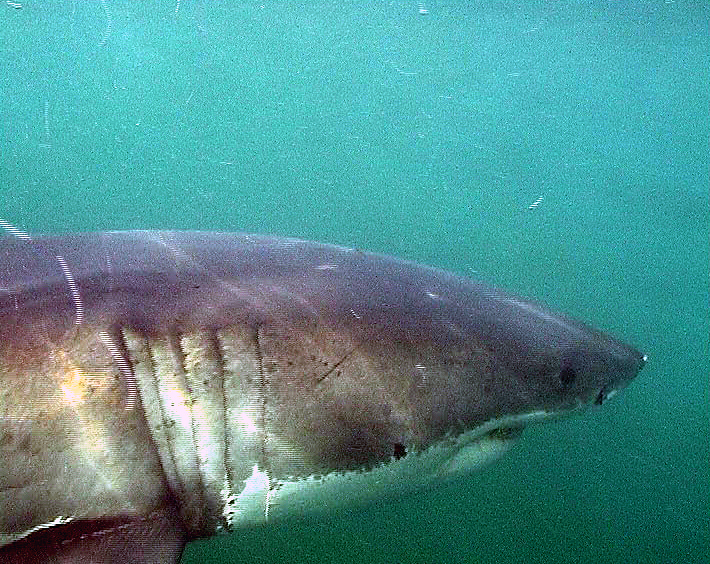Carcharodon_carcharias: (1, 197, 666, 564)
